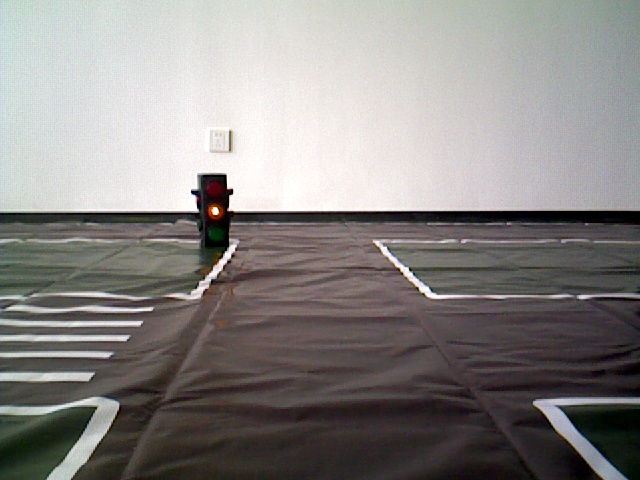yellow: (196, 173, 231, 248)
